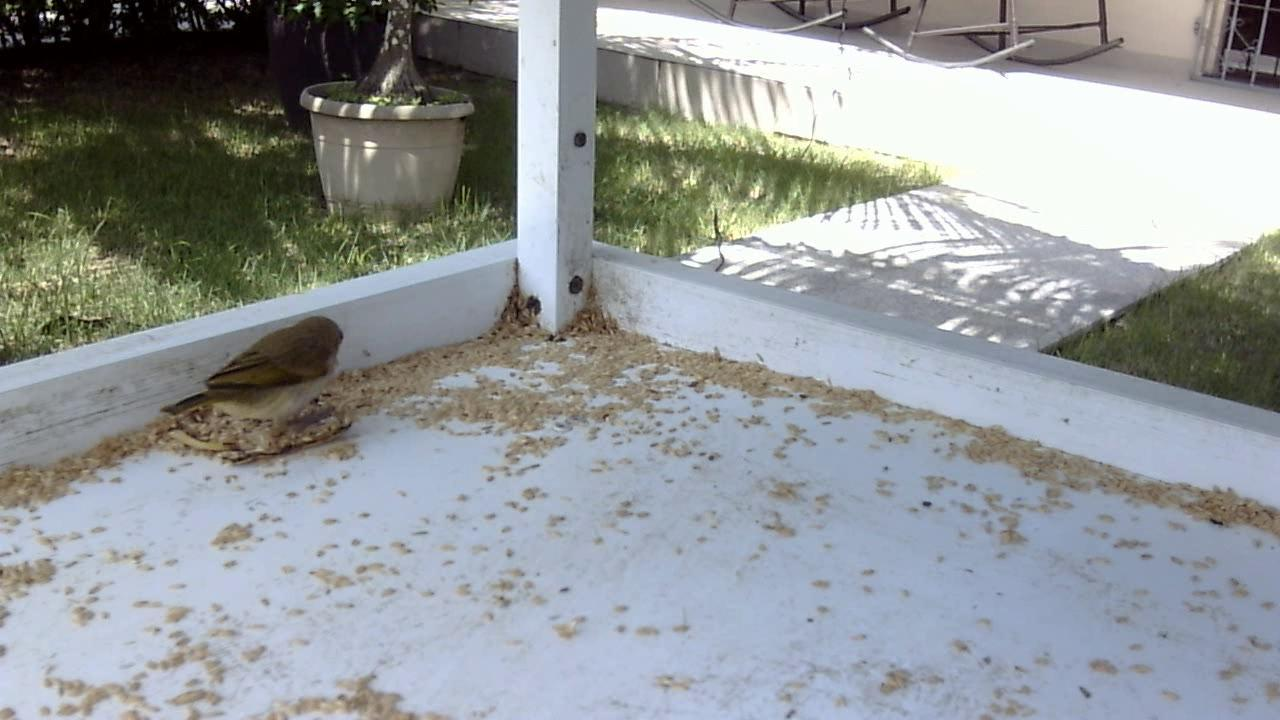canario_do_amazonas: (152, 310, 357, 471)
